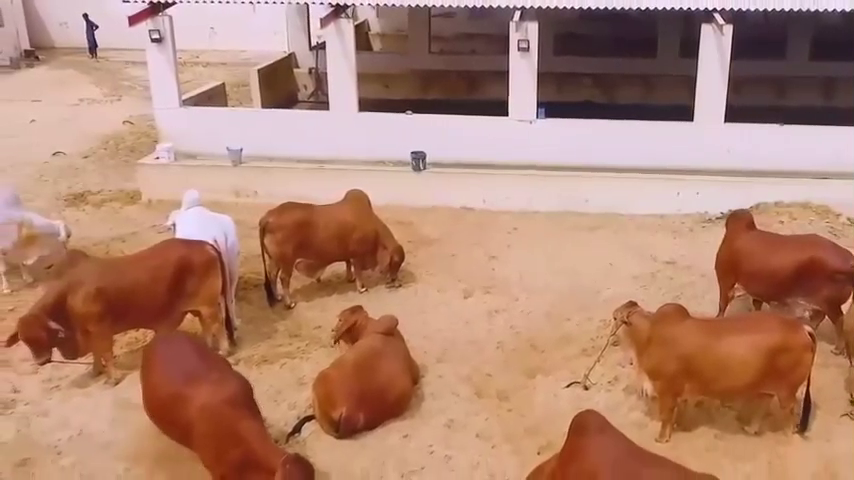bo: (11, 237, 253, 372), (602, 293, 818, 438), (125, 327, 320, 480), (249, 181, 413, 312), (709, 192, 851, 341), (303, 304, 438, 438), (523, 407, 732, 480), (157, 182, 252, 325), (2, 192, 73, 297)
